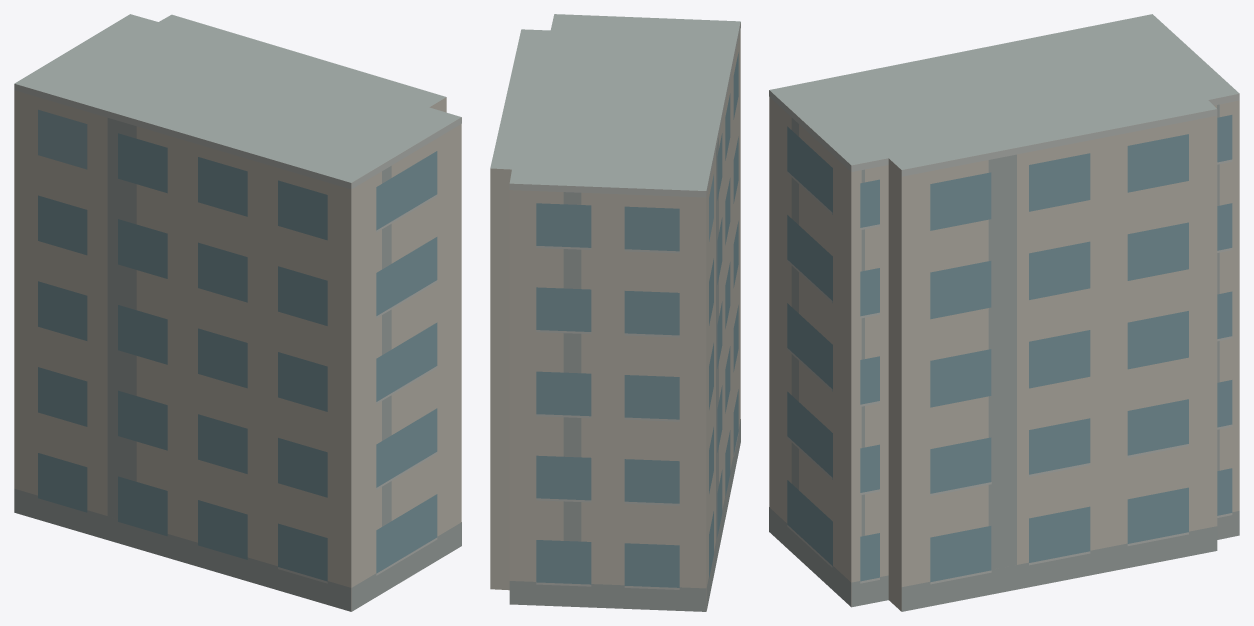
File: survey-upis-32872445.glb
The picture shows the model from 3 angles, left to right: view 1: azimuth 30°, elevation 25°; view 2: azimuth 150°, elevation 25°; view 3: azimuth 270°, elevation 25°; orthographic projection. The views are drawn at different scales.
Visible parts, largest first — view 1: survey-upis-32872445.tmp; view 2: survey-upis-32872445.tmp; view 3: survey-upis-32872445.tmp.
Boxes of the visible parts, x1,y1,x2,y2 form: survey-upis-32872445.tmp: (14, 14, 461, 611); survey-upis-32872445.tmp: (490, 14, 740, 611); survey-upis-32872445.tmp: (769, 14, 1239, 611).
Size of the model in its own units: 12.13 by 16 by 15.45.
